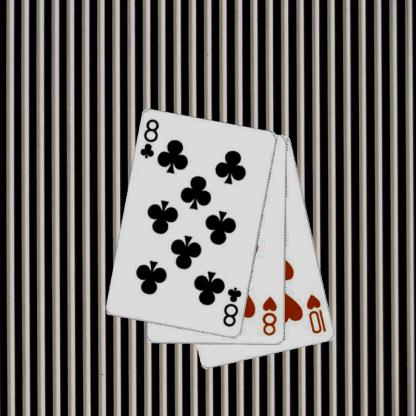10H: (304, 292, 328, 335)
8C: (220, 285, 243, 329), (138, 117, 160, 160)
8H: (260, 294, 278, 337)
